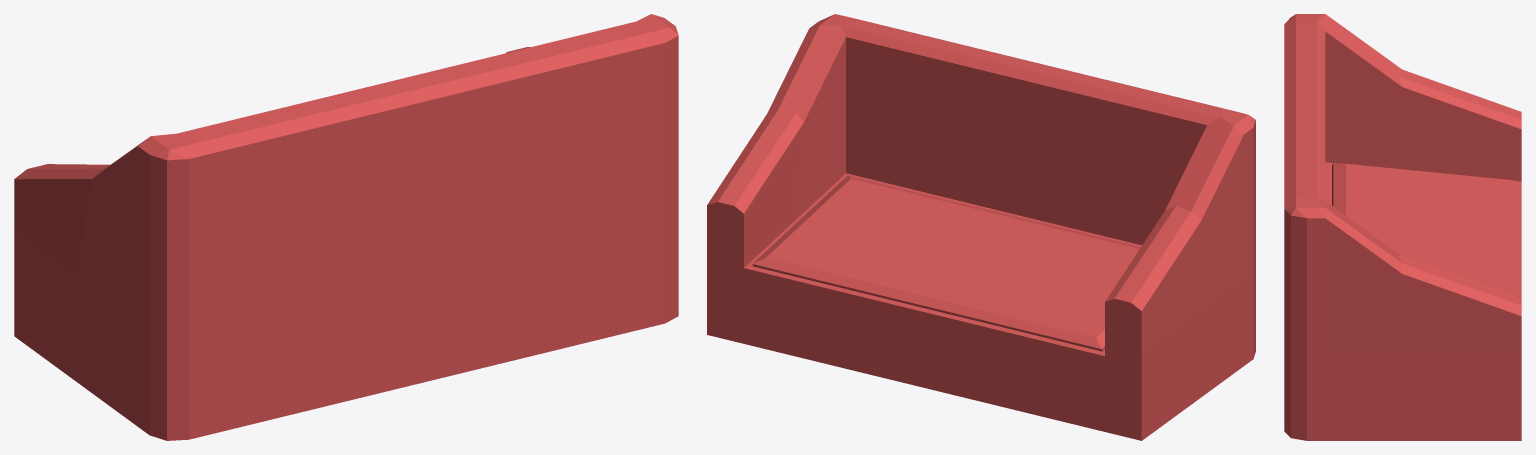
File: Sofa.fbx
3 renders of one model, left to right at view 1: azimuth 30°, elevation 25°; view 2: azimuth 150°, elevation 25°; view 3: azimuth 270°, elevation 25°, orthographic. The views are drawn at different scales.
Parts seen in each view (by area): view 1: Sofa; view 2: Sofa; view 3: Sofa.
Part boxes in pixels (x1=…): Sofa: x1=14, y1=14, x2=678, y2=440; Sofa: x1=707, y1=14, x2=1255, y2=440; Sofa: x1=1284, y1=14, x2=1521, y2=440.
Bounding box in the file's own units: 608 × 317 × 298.
